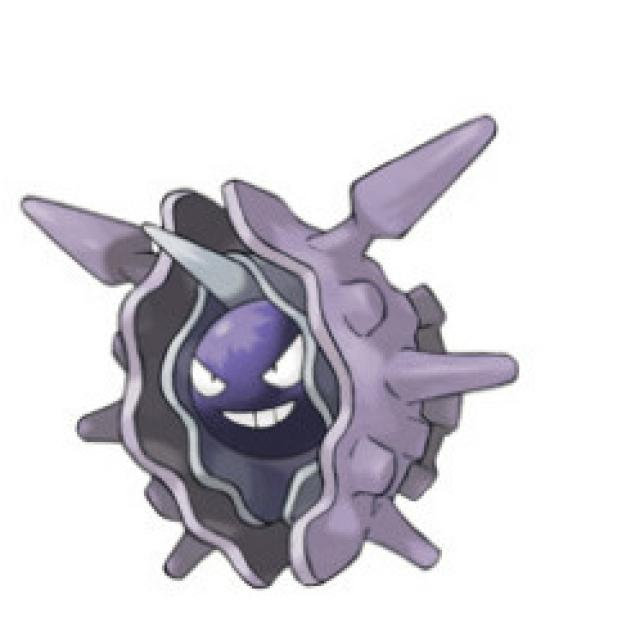Cloyster: (26, 120, 514, 583)
